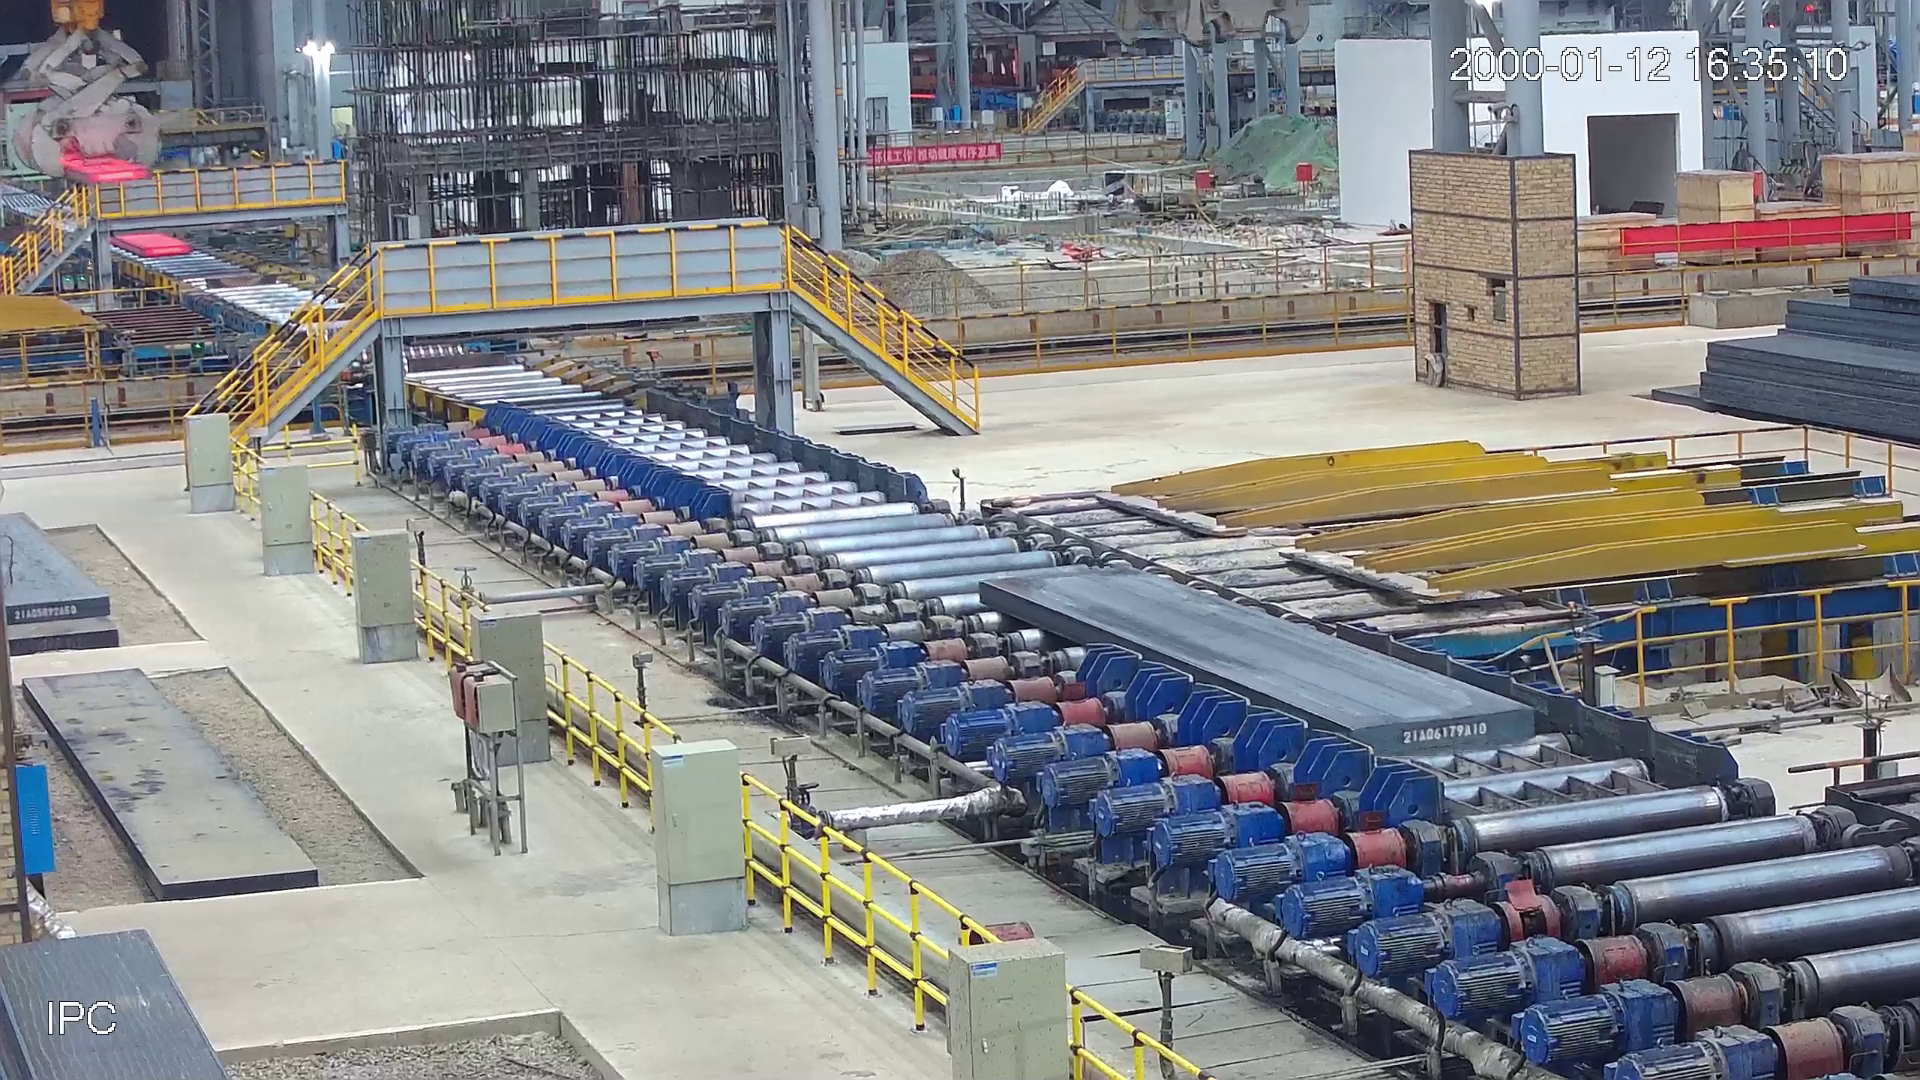craneandslab: (12, 3, 164, 189)
slab: (977, 568, 1530, 764), (109, 233, 194, 258)
